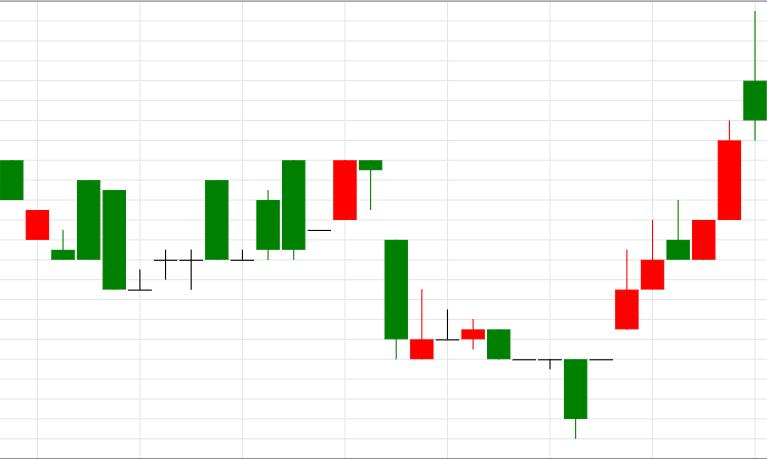shooting_star_fall: (565, 10, 767, 438)
